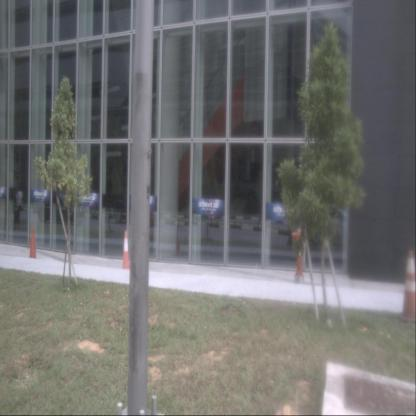human-pedestrian-adult: (13, 184, 23, 230)
movable_object-trafficcone: (399, 250, 416, 324), (120, 230, 132, 274), (28, 227, 38, 264), (174, 223, 182, 257)
